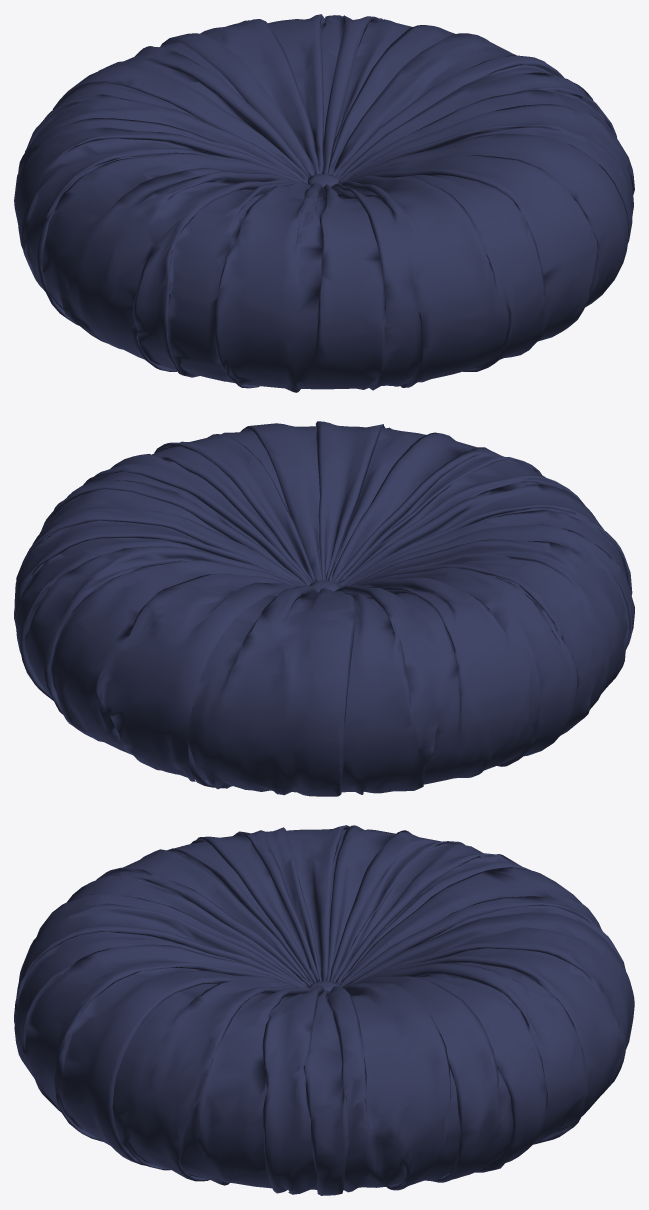
Rendered from pouf.glb.
The picture shows the model from 3 angles, top to bottom: view 1: azimuth 30°, elevation 25°; view 2: azimuth 150°, elevation 25°; view 3: azimuth 270°, elevation 25°; orthographic projection.
Visible parts, largest first — view 1: SpecularSilkPouf; view 2: SpecularSilkPouf; view 3: SpecularSilkPouf.
Part boxes in pixels (x1,y1,x2,y2): SpecularSilkPouf: (14, 14, 634, 392); SpecularSilkPouf: (14, 421, 634, 796); SpecularSilkPouf: (14, 825, 634, 1195).
Size of the model in its own units: 0.6099 by 0.1978 by 0.61.
